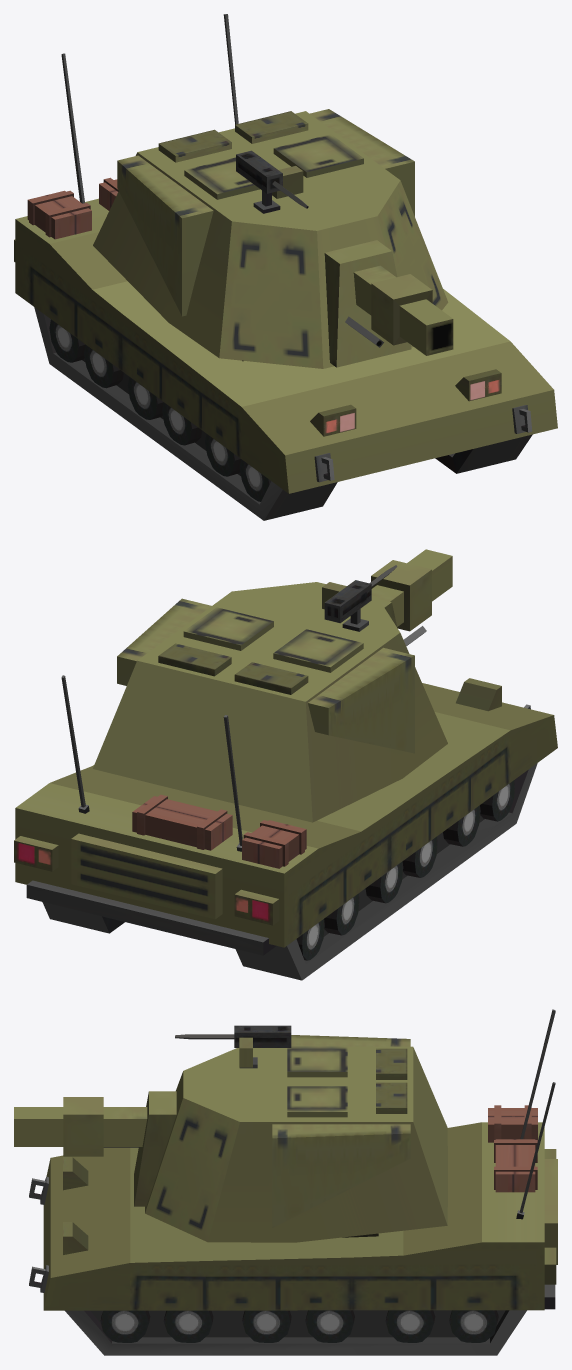
File: tank01.FBX
3 renders of one model, top to bottom at view 1: azimuth 30°, elevation 25°; view 2: azimuth 150°, elevation 25°; view 3: azimuth 270°, elevation 25°, orthographic. The views are drawn at different scales.
Parts seen in each view (by area): view 1: tank01; view 2: tank01; view 3: tank01.
Part boxes in pixels (<box>): tank01: <box>14,14,557,520</box>; tank01: <box>14,549,557,980</box>; tank01: <box>14,1009,557,1355</box>.
Size of the model in its own units: 4.99 by 4.9 by 9.54.
